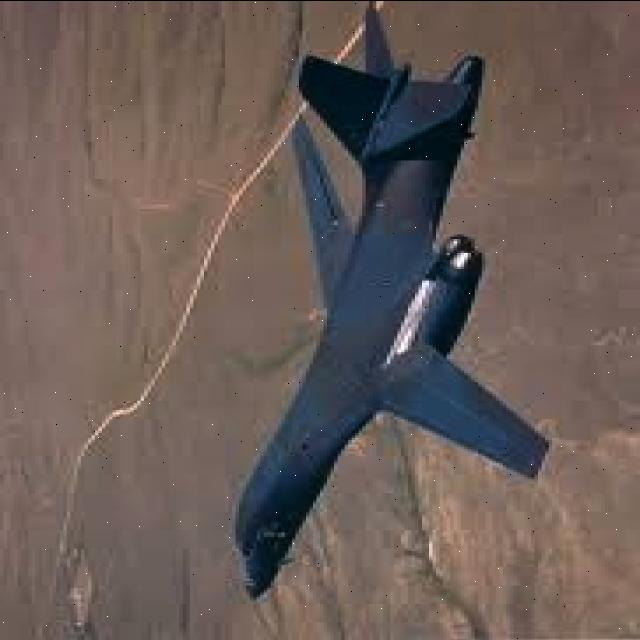B1: (196, 0, 565, 612)
